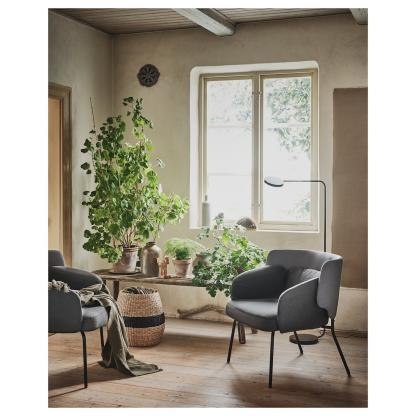chair: (214, 238, 364, 399), (48, 239, 122, 389)
door: (47, 92, 76, 263)
light: (257, 174, 333, 248)
table: (89, 259, 232, 339)
